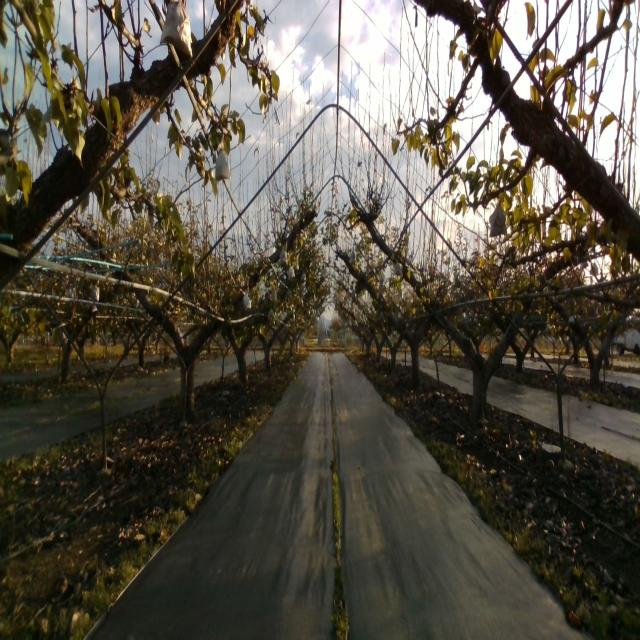pearbags: (159, 0, 193, 60), (489, 196, 508, 238), (214, 144, 232, 183)
